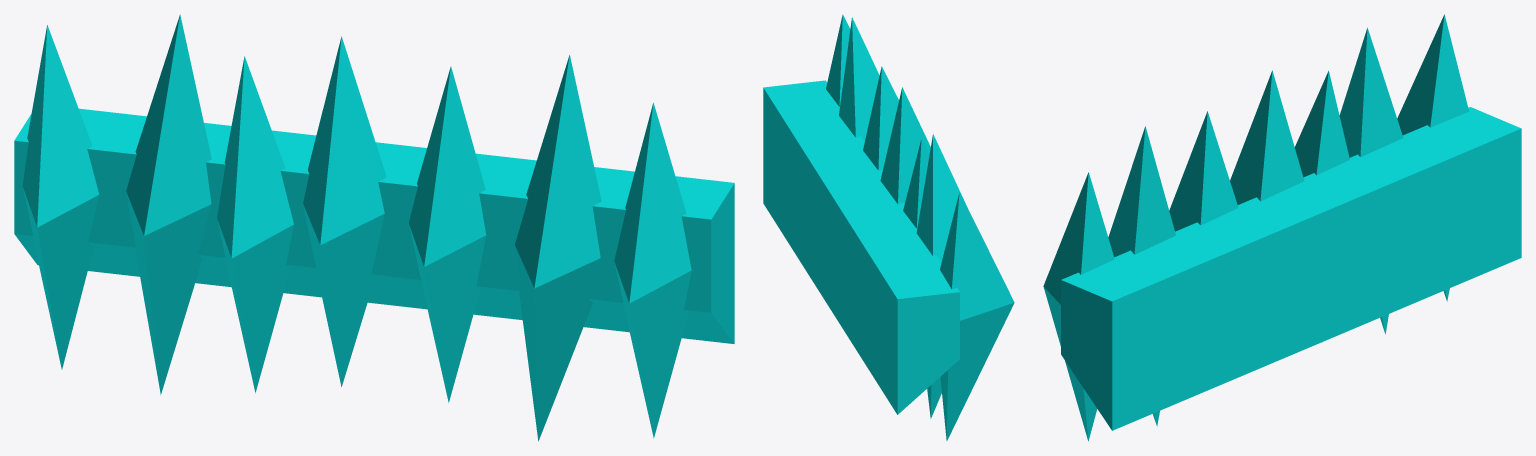
Rendered from SM_Bld_45_Battlements_03_Collision.fbx.
3 views of the same model, side by side, from view 1: azimuth 30°, elevation 25°; view 2: azimuth 150°, elevation 25°; view 3: azimuth 270°, elevation 25° (orthographic). The views are drawn at different scales.
Visible parts, largest first — view 1: SM_Bld_45_Battlements_03_Collision; view 2: SM_Bld_45_Battlements_03_Collision; view 3: SM_Bld_45_Battlements_03_Collision.
Part boxes in pixels (x1,y1,x2,y2): SM_Bld_45_Battlements_03_Collision: (14, 14, 734, 441); SM_Bld_45_Battlements_03_Collision: (763, 14, 1014, 441); SM_Bld_45_Battlements_03_Collision: (1043, 14, 1521, 441).
Bounding box in the file's own units: 606 × 429 × 597.
